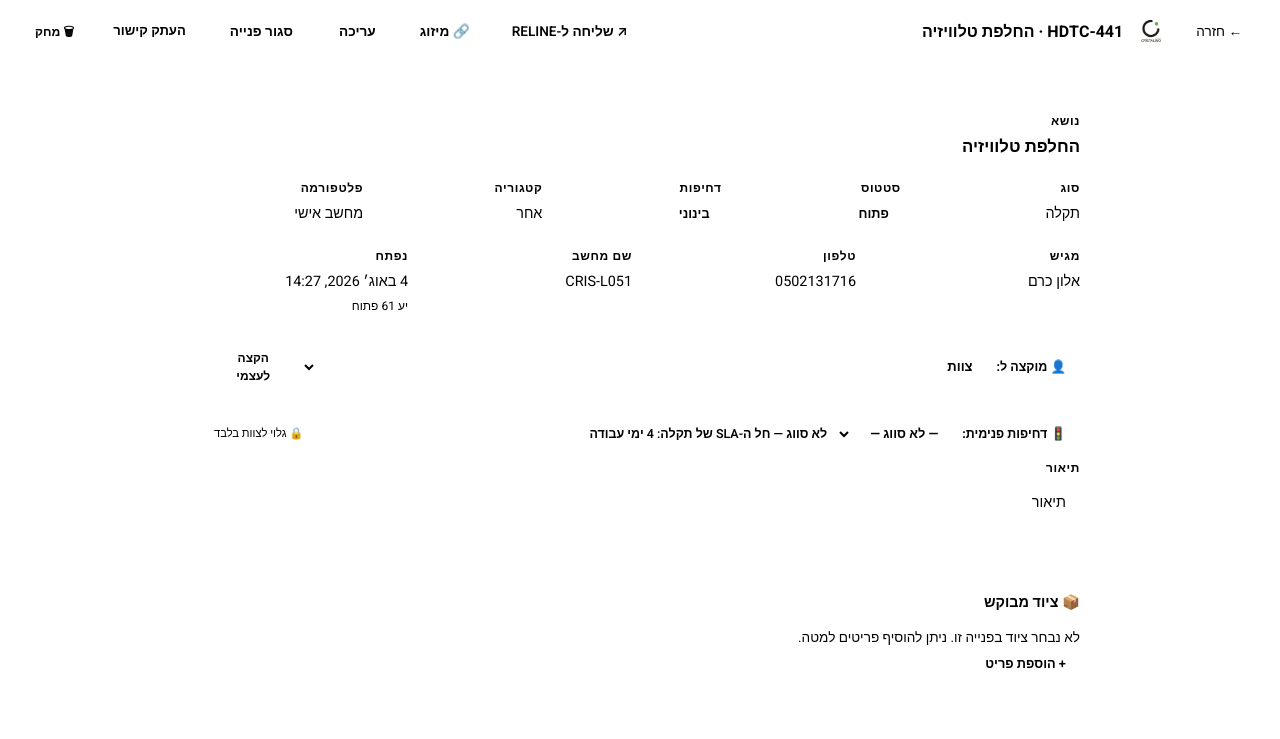
Test: מגיש picker — who gets to see it › gives an admin a select listing every registered user
Expected: the heading "HDTC-441 · החלפת טלוויזיה" is shown, [922,20,1123,44]
Click the button "עריכה" at (357, 32), box [323,16,392,48]
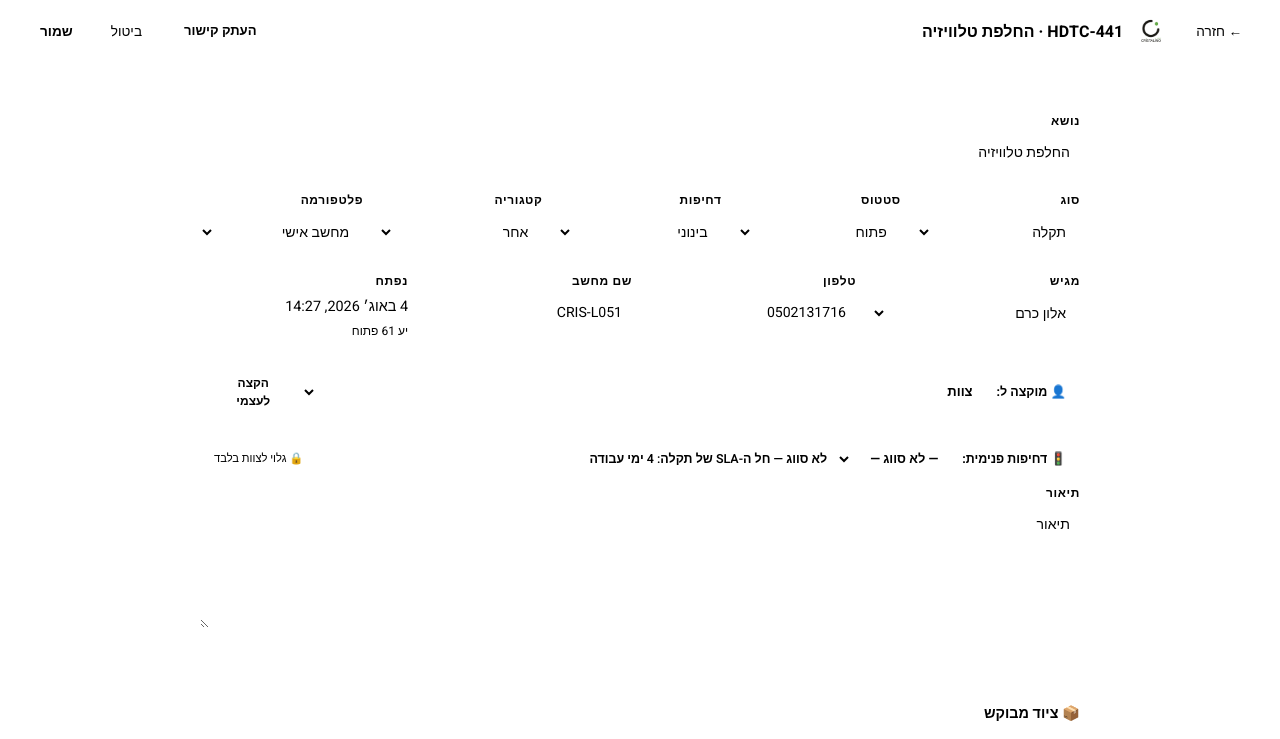
Now the dropdown named "מגיש" shows "אלון כרם", box [872,294,1080,333]
